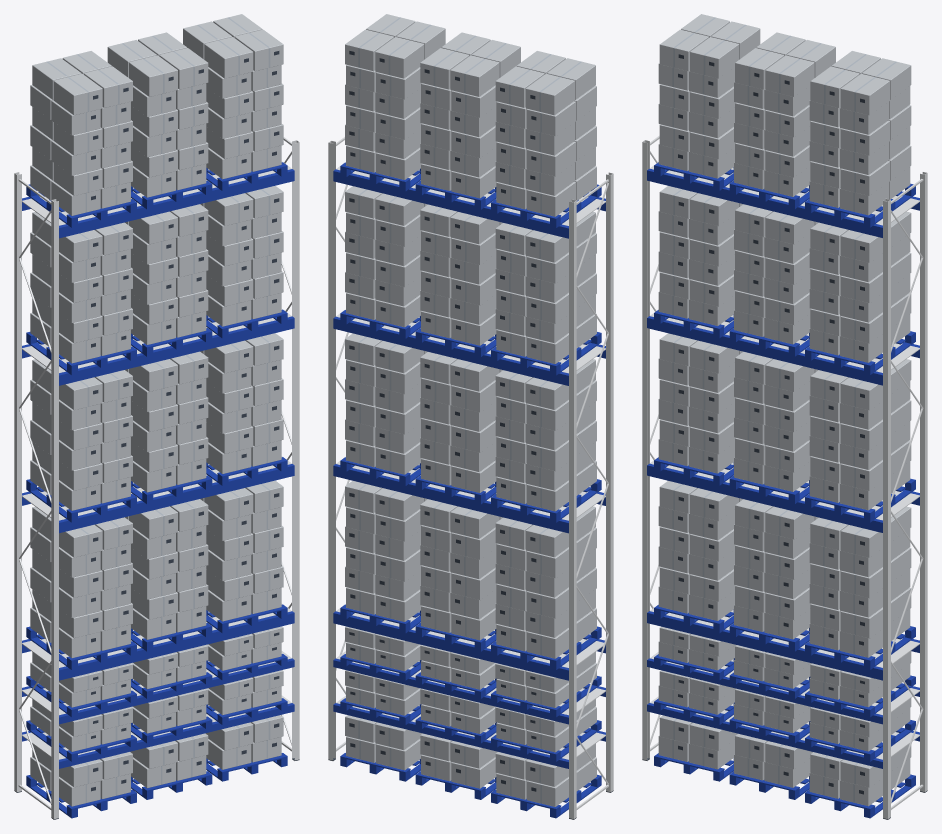
The model's file is SM_MPR_CADRack_F7_W144_Standard.fbx.
3 views of the same model, side by side, from view 1: azimuth 30°, elevation 25°; view 2: azimuth 150°, elevation 25°; view 3: azimuth 330°, elevation 25° (orthographic).
Parts seen in each view (by area): view 1: SM_MPR_CADRack_F7_W144_Standard; view 2: SM_MPR_CADRack_F7_W144_Standard; view 3: SM_MPR_CADRack_F7_W144_Standard.
Boxes of the visible parts, x1,y1,x2,y2 form: SM_MPR_CADRack_F7_W144_Standard: (14, 14, 299, 819); SM_MPR_CADRack_F7_W144_Standard: (328, 14, 613, 819); SM_MPR_CADRack_F7_W144_Standard: (642, 14, 927, 819).
Bounding box in the file's own units: 381 × 122 × 1068.
